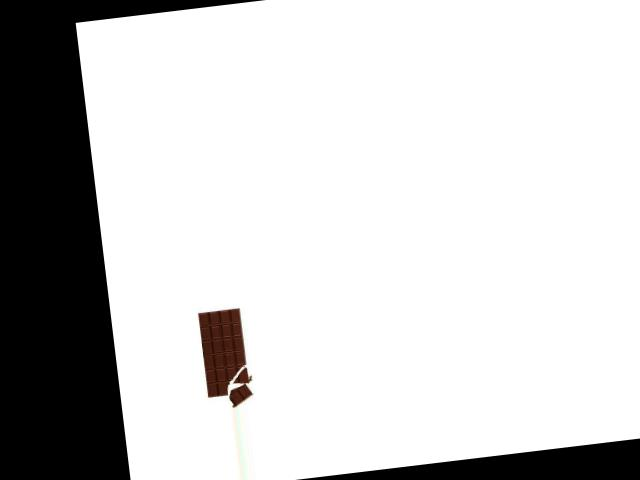chocolate: (191, 305, 264, 411)
